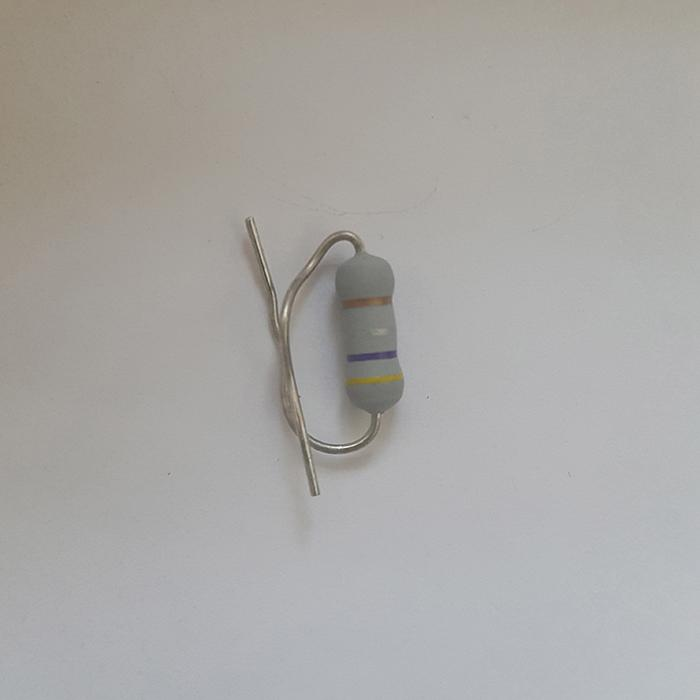resistor: (334, 249, 408, 416)
